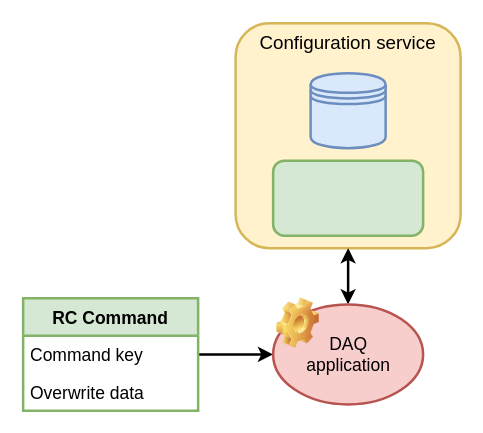
This 483x433 diagram has some shape labels left out. Each missing label, with the centre of its shape:
Config: the point at 347,110
Data Access Layer: the point at 347,197
